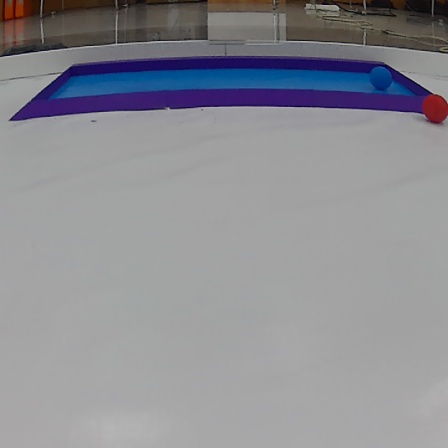blue: (367, 66, 395, 94)
blue_aim: (6, 56, 448, 121)
red: (417, 92, 448, 129)
